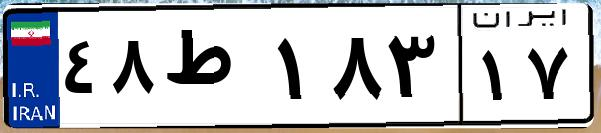1: (270, 28, 330, 110), (475, 38, 525, 113)
3: (385, 28, 445, 110)
4: (57, 26, 110, 100)
7: (525, 38, 570, 115)
8: (330, 28, 385, 110), (110, 28, 158, 98)
ط: (158, 20, 270, 120)
